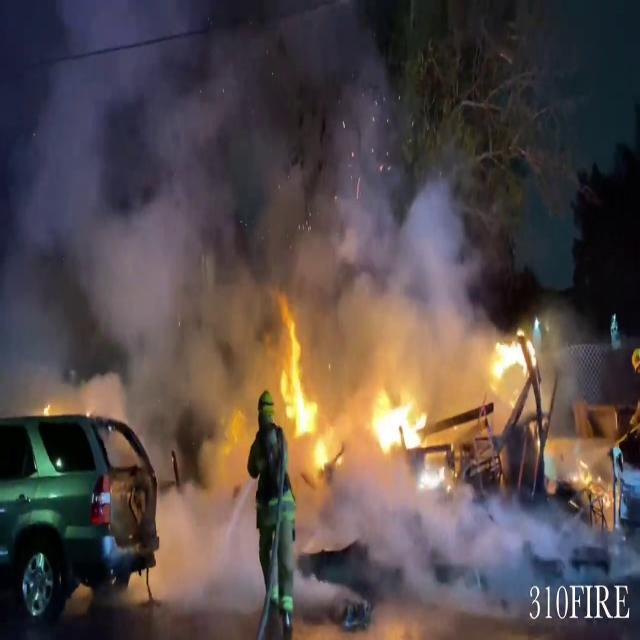Fire: (272, 304, 332, 460), (364, 378, 434, 462), (486, 322, 536, 392)
Smoke: (0, 1, 488, 369)
